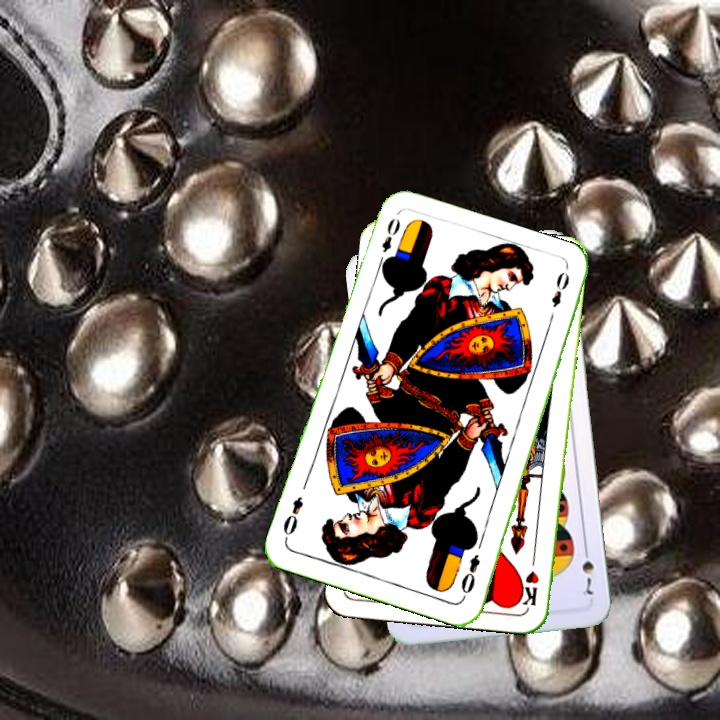EO: (374, 214, 403, 269), (457, 550, 483, 601)
HK: (518, 549, 541, 608)
S7: (577, 541, 597, 598)
